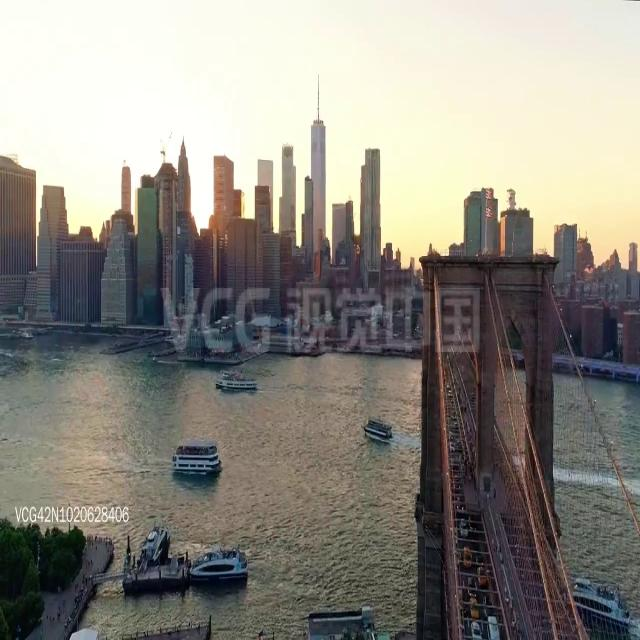houseboat: (570, 576, 633, 627), (190, 543, 249, 583)
passenger ship: (172, 439, 225, 477), (213, 366, 260, 392), (365, 417, 393, 443)
